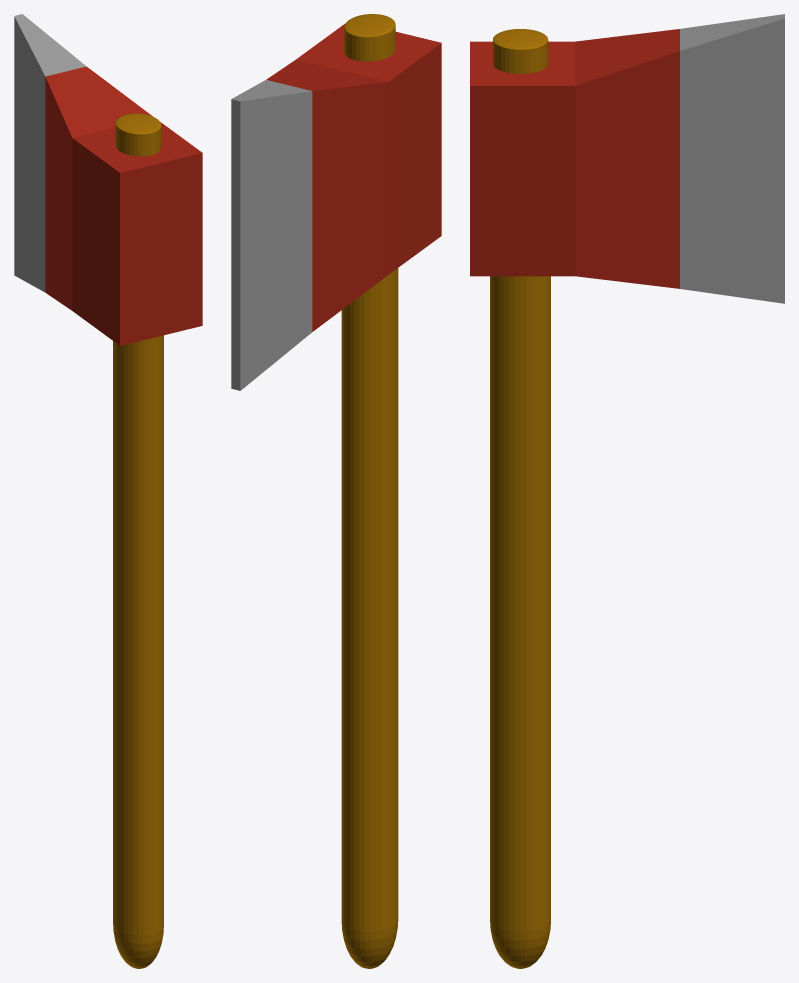
Rendered from axe.fbx.
3 renders of one model, left to right at view 1: azimuth 30°, elevation 25°; view 2: azimuth 150°, elevation 25°; view 3: azimuth 270°, elevation 25°, orthographic. The views are drawn at different scales.
Visible parts, largest first — view 1: grip_bottom, head_redmetal2, head_redmetal, head_metal, grip_top; view 2: grip_bottom, head_metal, head_redmetal, head_redmetal2, grip_top; view 3: grip_bottom, head_metal, head_redmetal, head_redmetal2, grip_top.
Part boxes in pixels (box(x1,y1,x2,y2)): grip_bottom: box(113, 335, 163, 968); head_redmetal2: box(72, 122, 202, 345); head_redmetal: box(45, 66, 152, 310); head_metal: box(14, 14, 86, 292); grip_top: box(115, 113, 161, 156); grip_bottom: box(341, 268, 398, 968); head_metal: box(231, 80, 312, 390); head_redmetal: box(266, 59, 388, 331); head_redmetal2: box(296, 23, 441, 274); grip_top: box(344, 14, 395, 61); grip_bottom: box(490, 276, 550, 968); head_metal: box(680, 14, 784, 303); head_redmetal: box(575, 29, 679, 288); head_redmetal2: box(470, 41, 574, 276); grip_top: box(493, 29, 548, 73).
Size of the model in its own units: 200 by 2000 by 600.
